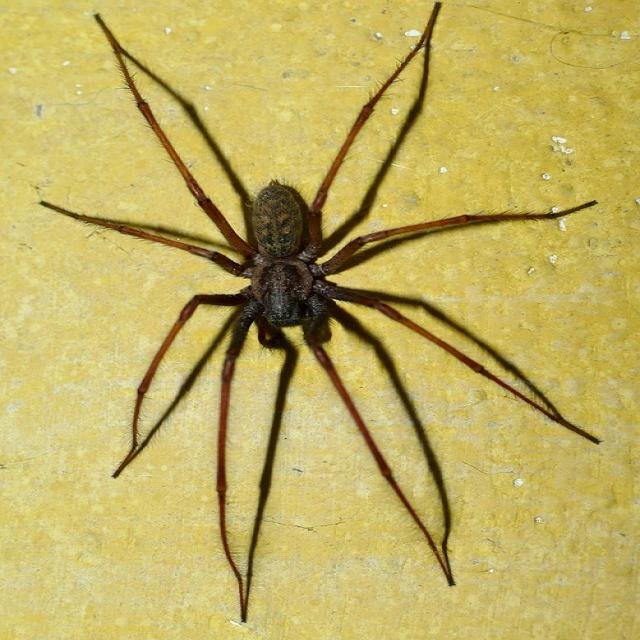spyder: (40, 0, 599, 625)
